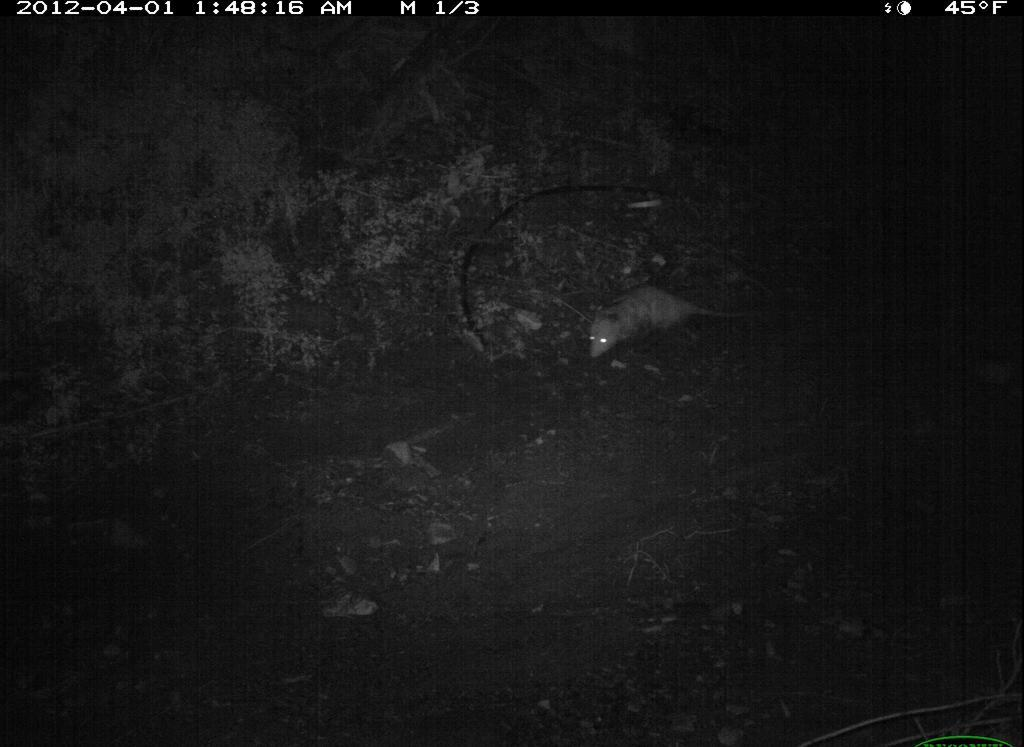opossum: (582, 285, 762, 373)
